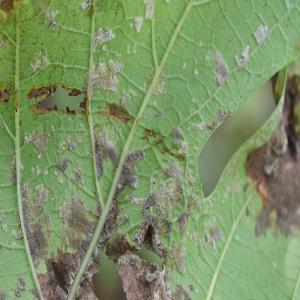Folha: (0, 0, 298, 298)
Fungo: (94, 130, 144, 192), (142, 162, 185, 232), (57, 193, 98, 253), (27, 83, 87, 117), (84, 57, 122, 95), (21, 183, 50, 222), (26, 220, 49, 268), (192, 220, 224, 251), (24, 125, 50, 159), (97, 130, 118, 164), (211, 49, 229, 86), (37, 0, 59, 30), (93, 26, 115, 52), (107, 102, 133, 124), (207, 108, 232, 130), (28, 49, 49, 74), (149, 68, 166, 96), (10, 151, 24, 185), (163, 161, 184, 183), (27, 84, 56, 99), (234, 44, 250, 68), (34, 182, 50, 204), (253, 23, 268, 45), (57, 201, 72, 223), (92, 27, 102, 53), (14, 276, 26, 297), (56, 156, 70, 172), (141, 127, 158, 140), (143, 0, 153, 20), (172, 126, 182, 145), (0, 86, 10, 103), (102, 28, 115, 41), (178, 140, 187, 157), (11, 228, 23, 240), (67, 138, 77, 152), (134, 17, 142, 33), (68, 87, 82, 96), (75, 170, 83, 184), (0, 34, 8, 48), (18, 276, 26, 290), (80, 0, 91, 10), (14, 88, 18, 112), (154, 106, 163, 116), (188, 283, 197, 293), (49, 20, 58, 30), (0, 287, 6, 299), (2, 222, 8, 232), (150, 176, 156, 184)
